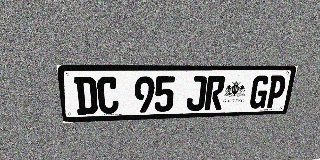5: (154, 76, 175, 112)
9: (135, 76, 155, 113)
C: (97, 77, 119, 114)
D: (74, 77, 98, 115)
G: (248, 75, 271, 109)
J: (186, 76, 207, 111)
P: (265, 75, 287, 108)
R: (204, 76, 226, 110)
